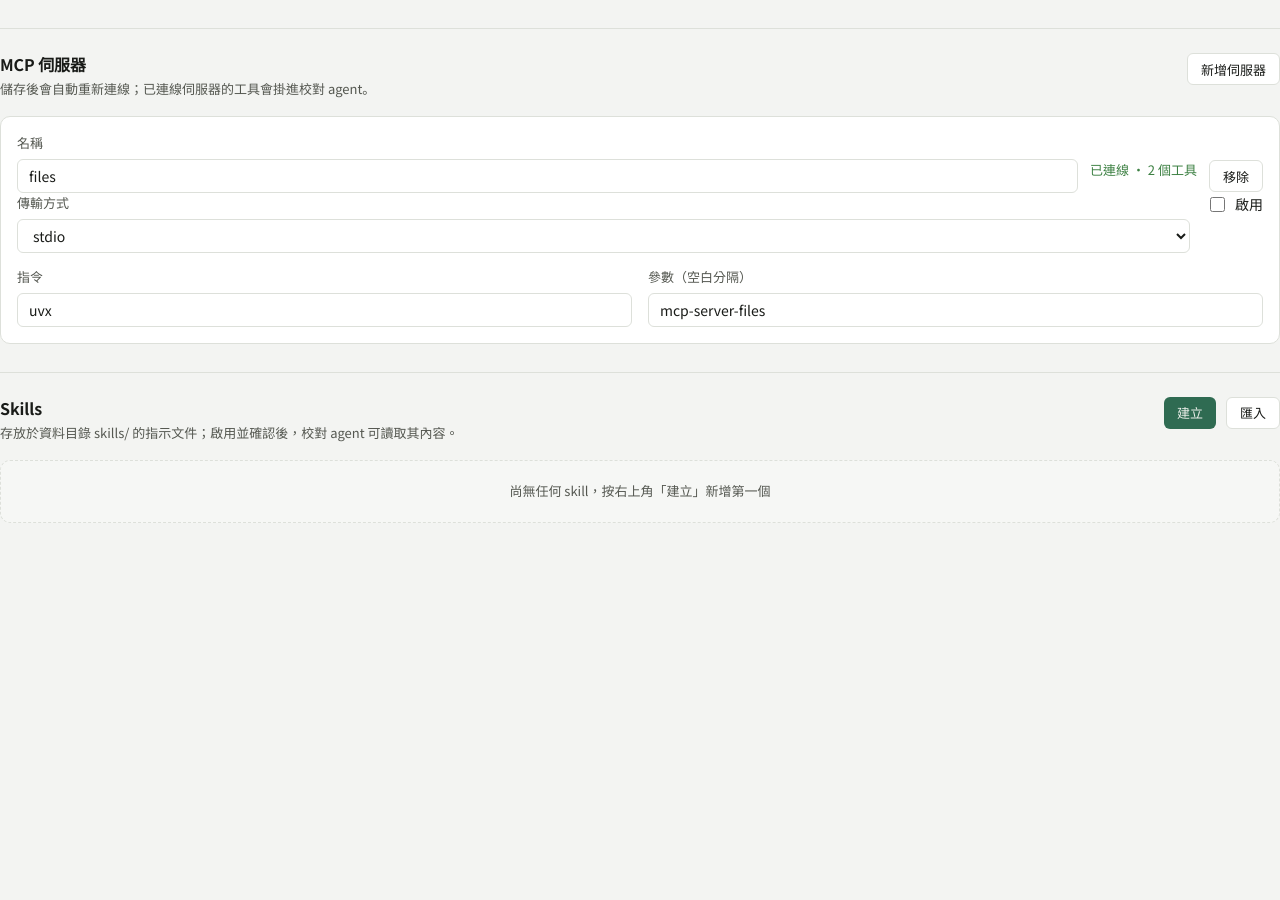
confirming an unconfirmed server writes enabled and confirmed to the draft
What coordinates should you click on to do the following:
click the checkbox labelled "啟用"
I would click on:
 (1218, 204)
Its box is [1210,197,1225,212].
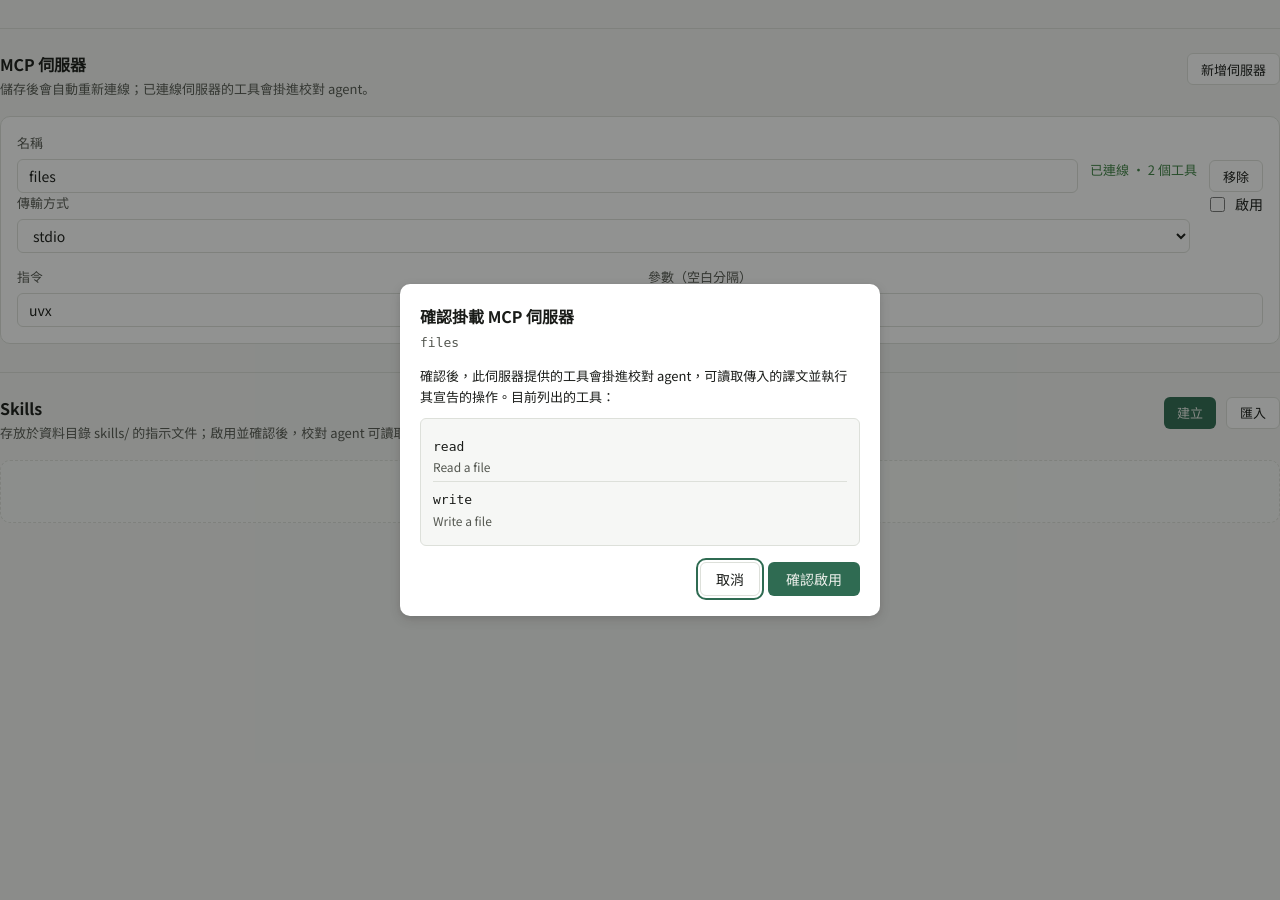
What coordinates should you click on to do the following:
click the button "確認啟用"
I would click on:
 (814, 579)
Its box is [768,562,860,596].
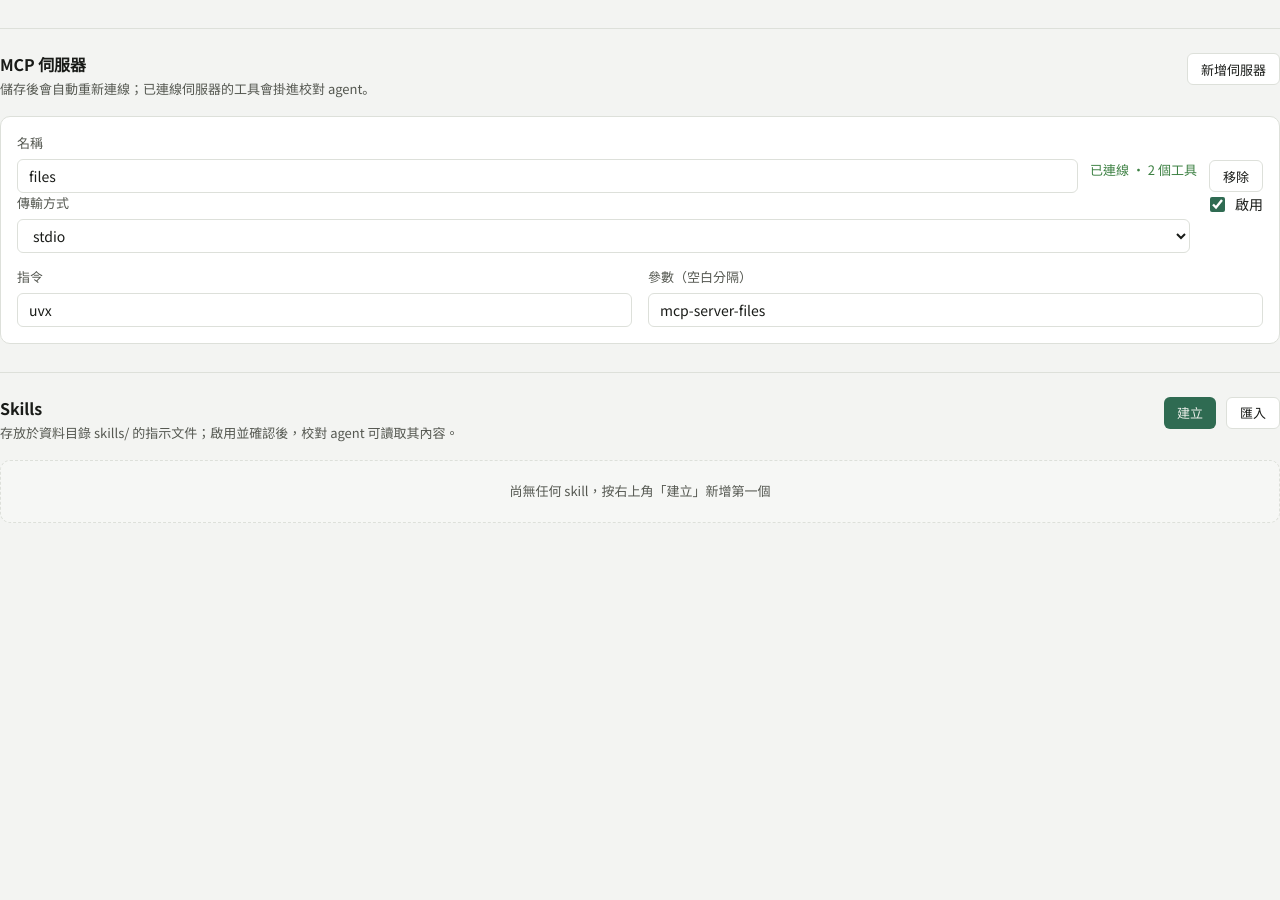
expect the checkbox labelled "啟用" is checked: met, box [1210,197,1225,212]
expect the dialog is gone: met
